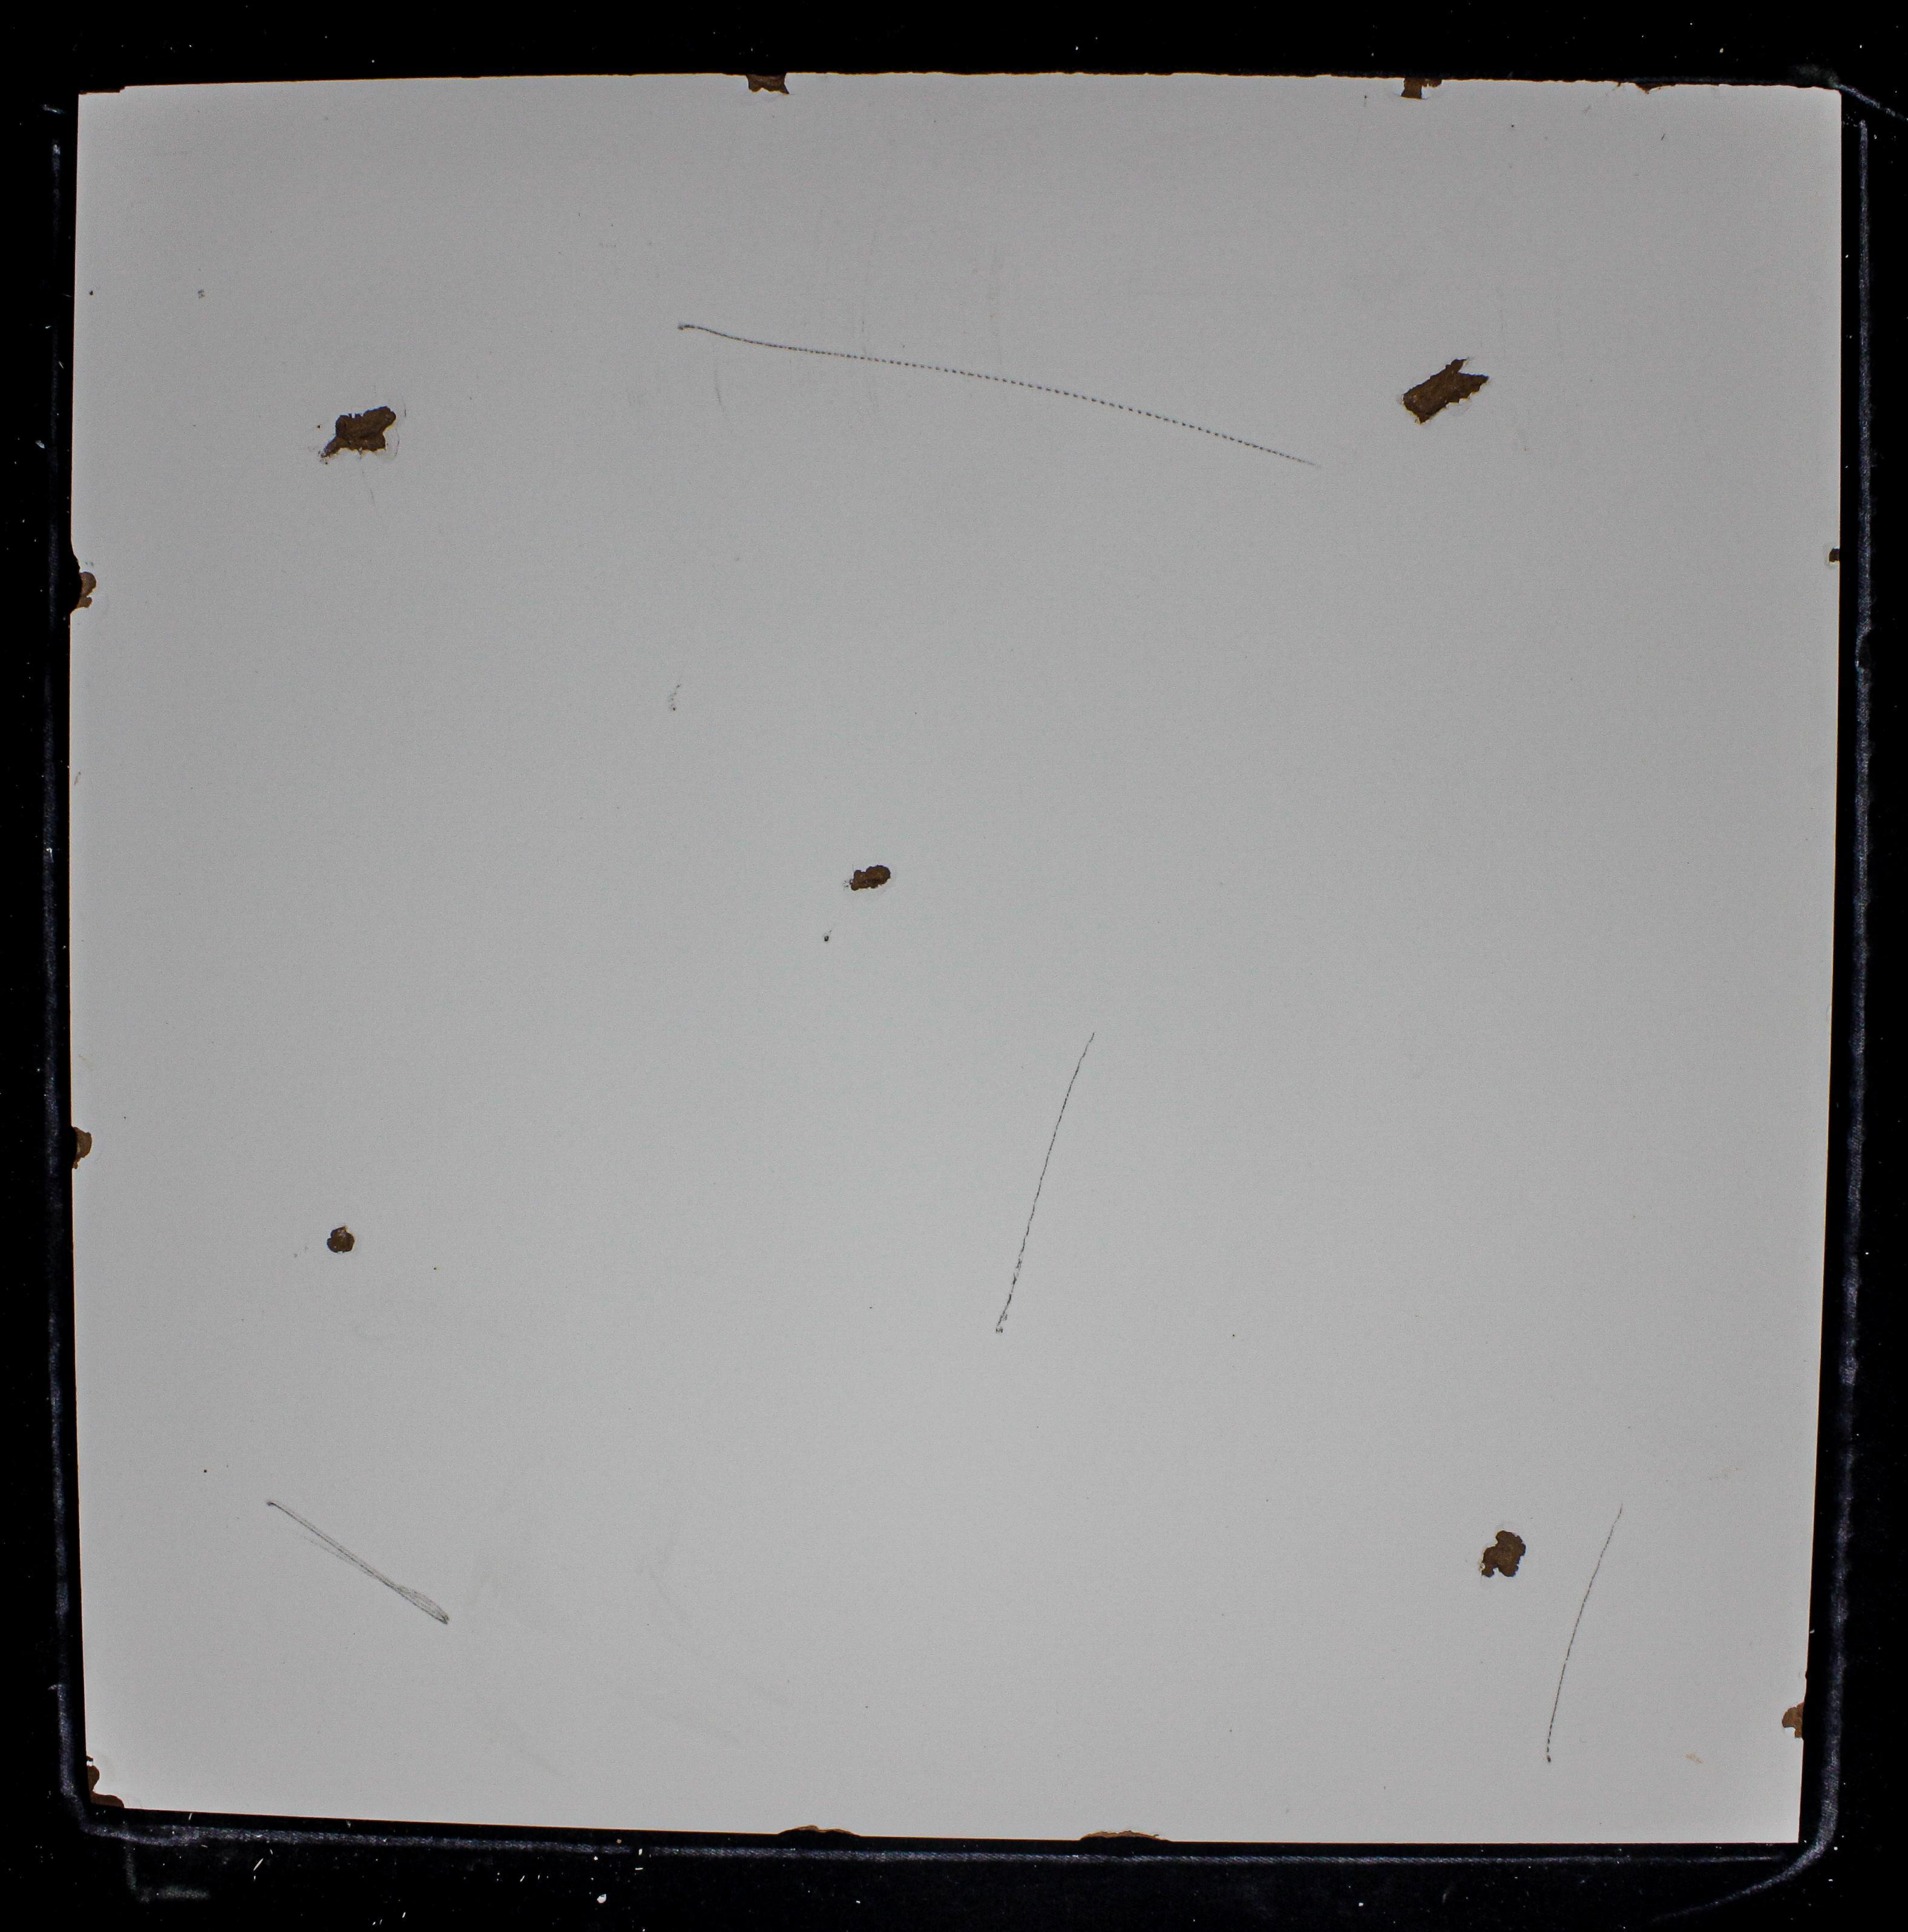edge-chipping: (68, 540, 98, 617), (1078, 1829, 1172, 1843), (744, 70, 792, 96), (1780, 1698, 1805, 1745), (778, 1824, 858, 1838), (70, 1125, 94, 1170), (1401, 75, 1443, 101), (1614, 80, 1676, 94), (75, 82, 128, 98), (87, 1792, 128, 1810), (84, 1752, 100, 1792), (1796, 84, 1842, 94), (1828, 547, 1842, 566)
hole: (1401, 358, 1490, 426), (320, 404, 398, 461), (1478, 1528, 1529, 1579), (851, 865, 893, 891), (327, 1223, 356, 1252), (821, 929, 833, 947)
line: (673, 314, 1302, 465), (999, 1031, 1097, 1343), (260, 1495, 458, 1628), (1545, 1520, 1618, 1768)
